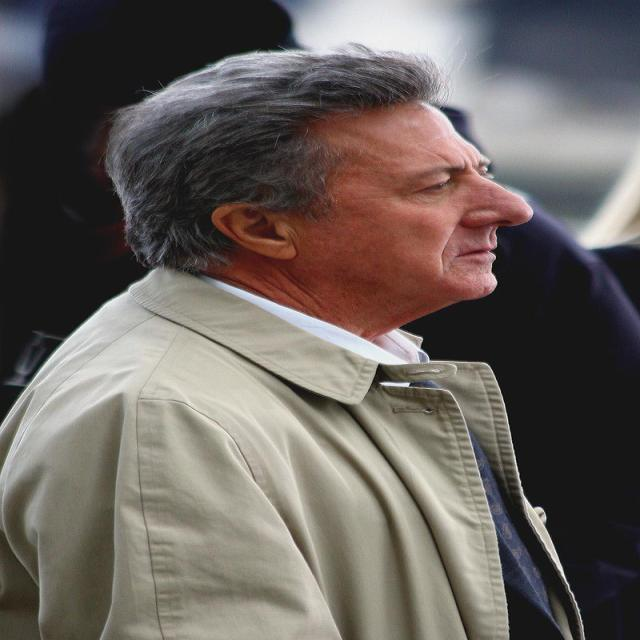no-earmuff: (196, 186, 356, 272)
